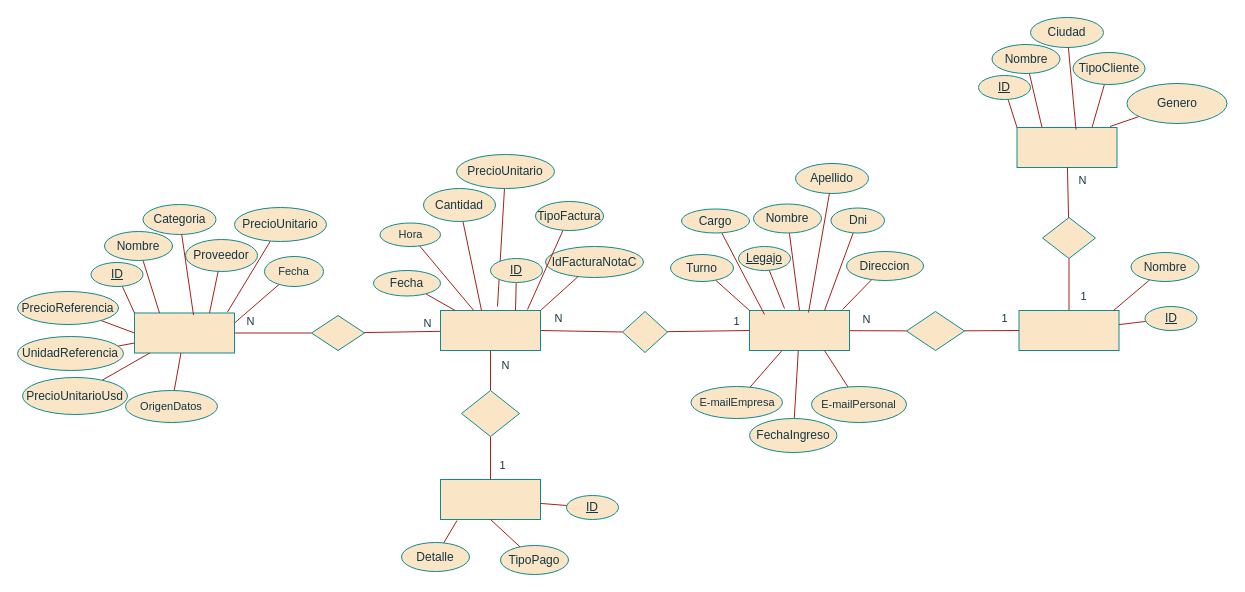
The diagram is 1245 pixels wide and 592 high, and some of its shapes have lost their labels. Here are the shapes that lost their labels. From the top down, the box of each, then its label:
(1016, 126, 1117, 168): CLIENTE
(134, 312, 234, 353): RODUCTO
(440, 310, 540, 350): FACTURA
(748, 310, 850, 350): EMPLEADO
(1018, 310, 1119, 350): SUCURSAL
(440, 478, 540, 520): MEDIODEPAGO
